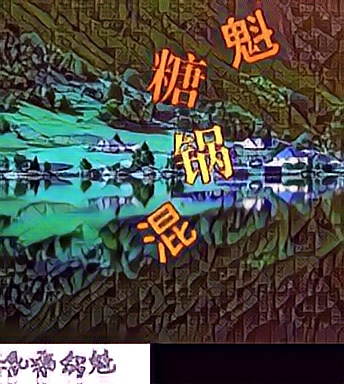B9F8: (170, 121, 235, 185)
BBEC: (137, 201, 202, 265)
BFFD: (218, 7, 283, 71)
CCC7: (143, 48, 208, 112)
